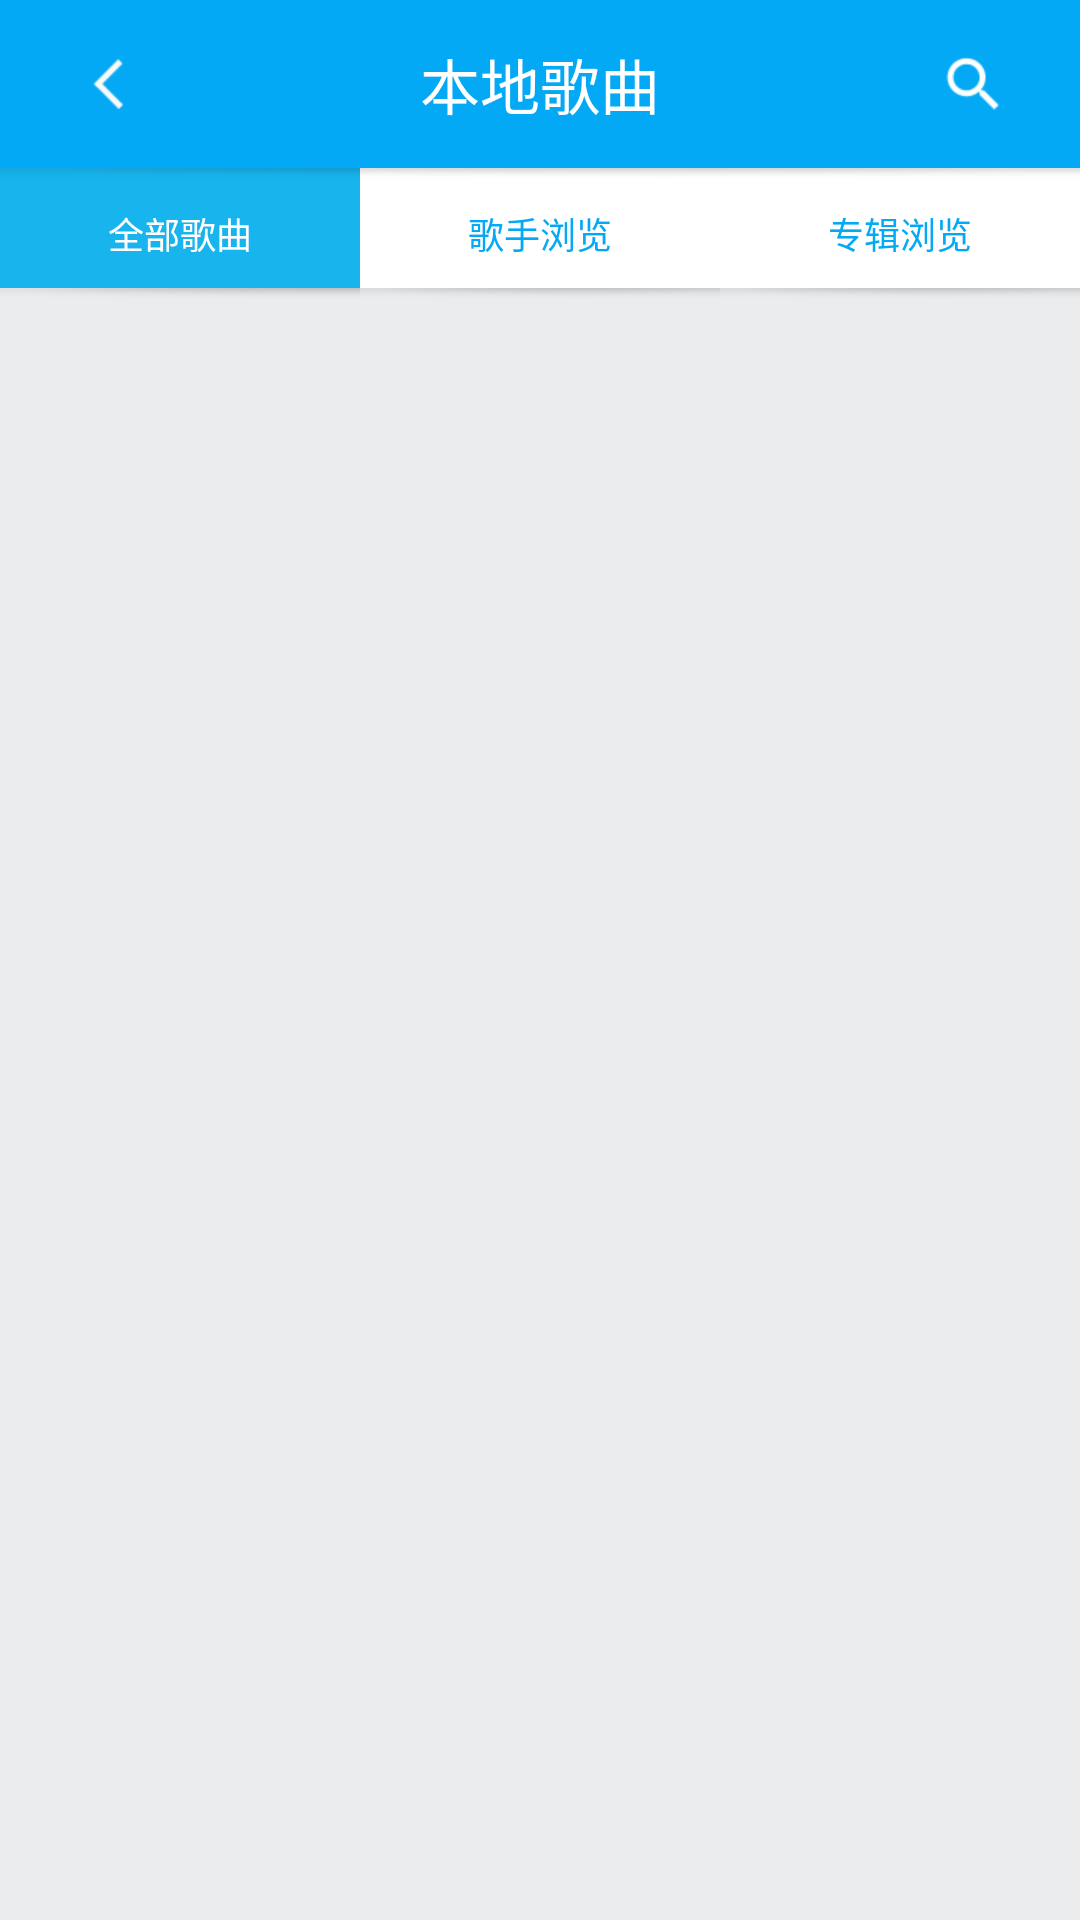

Icon bounding boxes for this 1080w x 1920h phone screenshot, format (x1, y1, x2, y2):
搜索: (946, 57, 999, 110)
